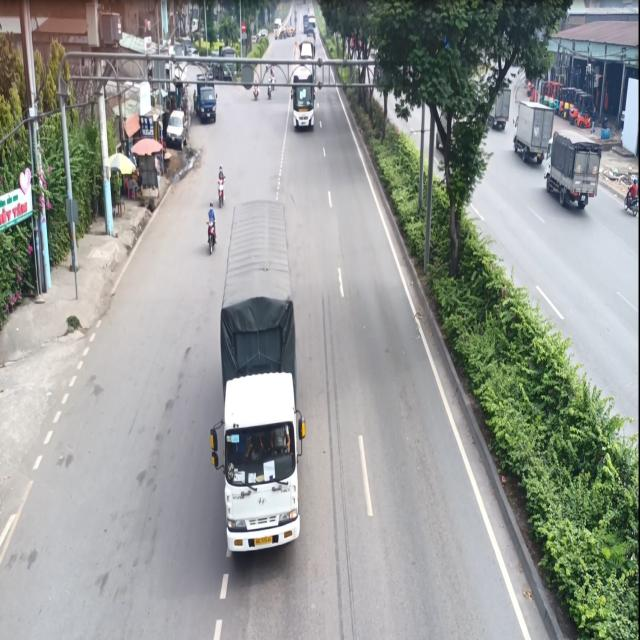motor: (202, 195, 218, 252), (213, 161, 226, 205)
truck: (216, 196, 308, 582)
